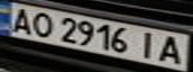1: (93, 21, 112, 51)
2: (54, 15, 78, 45)
6: (109, 25, 133, 54)
9: (72, 18, 96, 47)
A: (154, 34, 187, 65), (6, 6, 36, 34)
I: (133, 29, 163, 61)
O: (27, 10, 57, 38)
